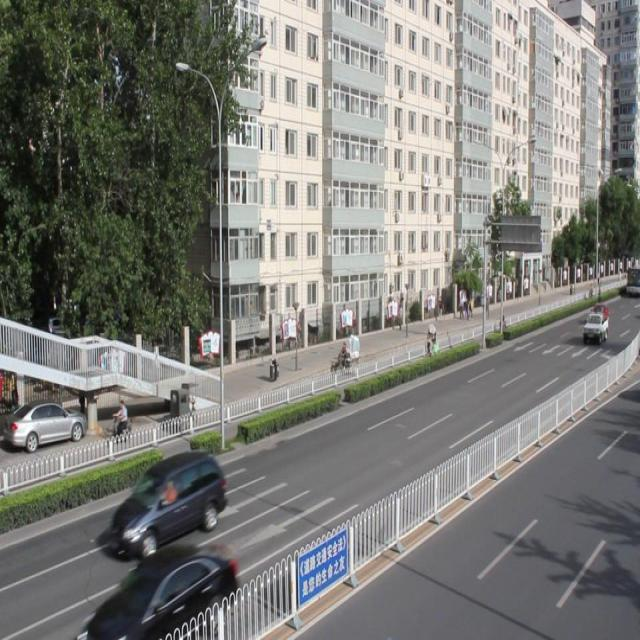car: (85, 541, 235, 640), (108, 450, 226, 554)
